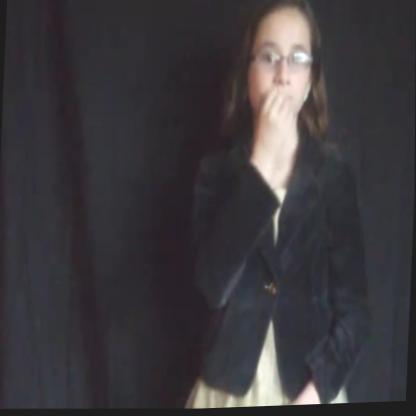Food: (204, 0, 344, 193)
